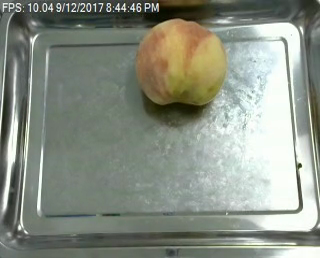Peach: (136, 17, 226, 107)
